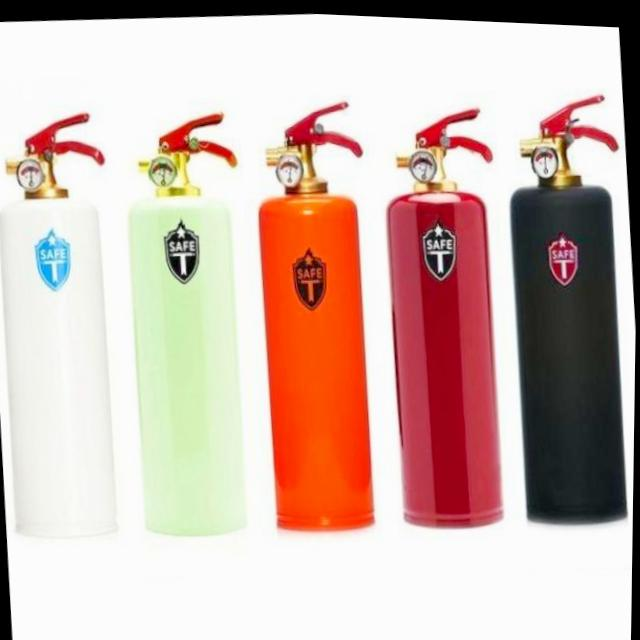FireExtinguisher: (111, 98, 266, 542), (239, 89, 391, 536), (371, 91, 520, 531), (493, 79, 639, 526), (0, 101, 137, 547)
